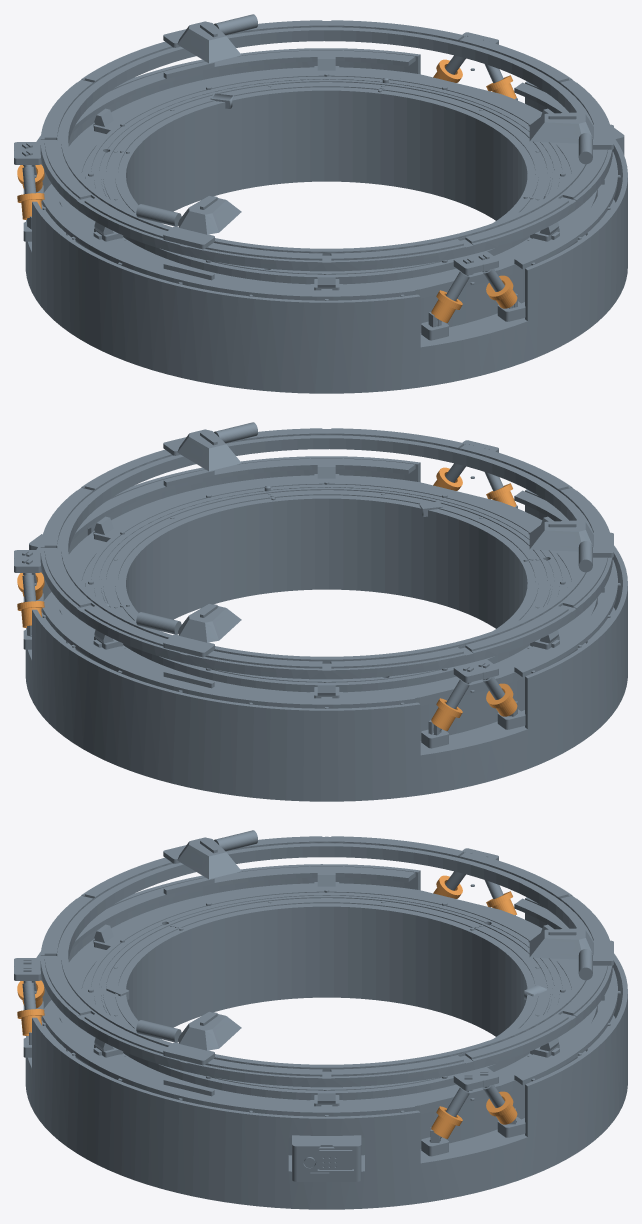
File: thessa_d1_docking_port.glb
The picture shows the model from 3 angles, top to bottom: view 1: azimuth 30°, elevation 25°; view 2: azimuth 150°, elevation 25°; view 3: azimuth 270°, elevation 25°; orthographic projection.
Parts seen in each view (by area): view 1: FixedStructure, SoftCapturePetal_06, SoftCapturePetal_05; view 2: FixedStructure, SoftCapturePetal_04, SoftCapturePetal_03; view 3: FixedStructure, SoftCapturePetal_02, SoftCapturePetal_01.
Boxes of the visible parts, x1,y1,x2,y2 form: FixedStructure: [14, 14, 627, 393]; SoftCapturePetal_06: [486, 275, 517, 308]; SoftCapturePetal_05: [431, 290, 462, 322]; FixedStructure: [14, 422, 627, 801]; SoftCapturePetal_04: [486, 683, 517, 716]; SoftCapturePetal_03: [431, 698, 462, 730]; FixedStructure: [14, 830, 627, 1209]; SoftCapturePetal_02: [486, 1091, 517, 1124]; SoftCapturePetal_01: [431, 1106, 462, 1138].
Size of the model in its own units: 1.25 by 0.332 by 1.22.
